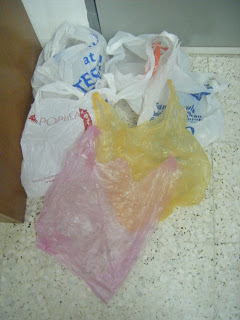plastic bag: (19, 20, 222, 304)
